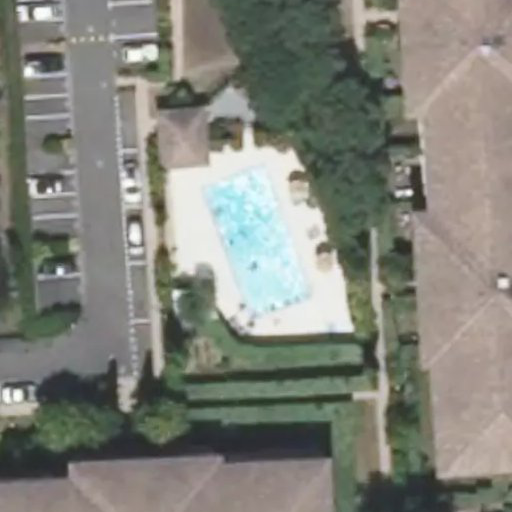pool: (200, 187, 311, 296)
